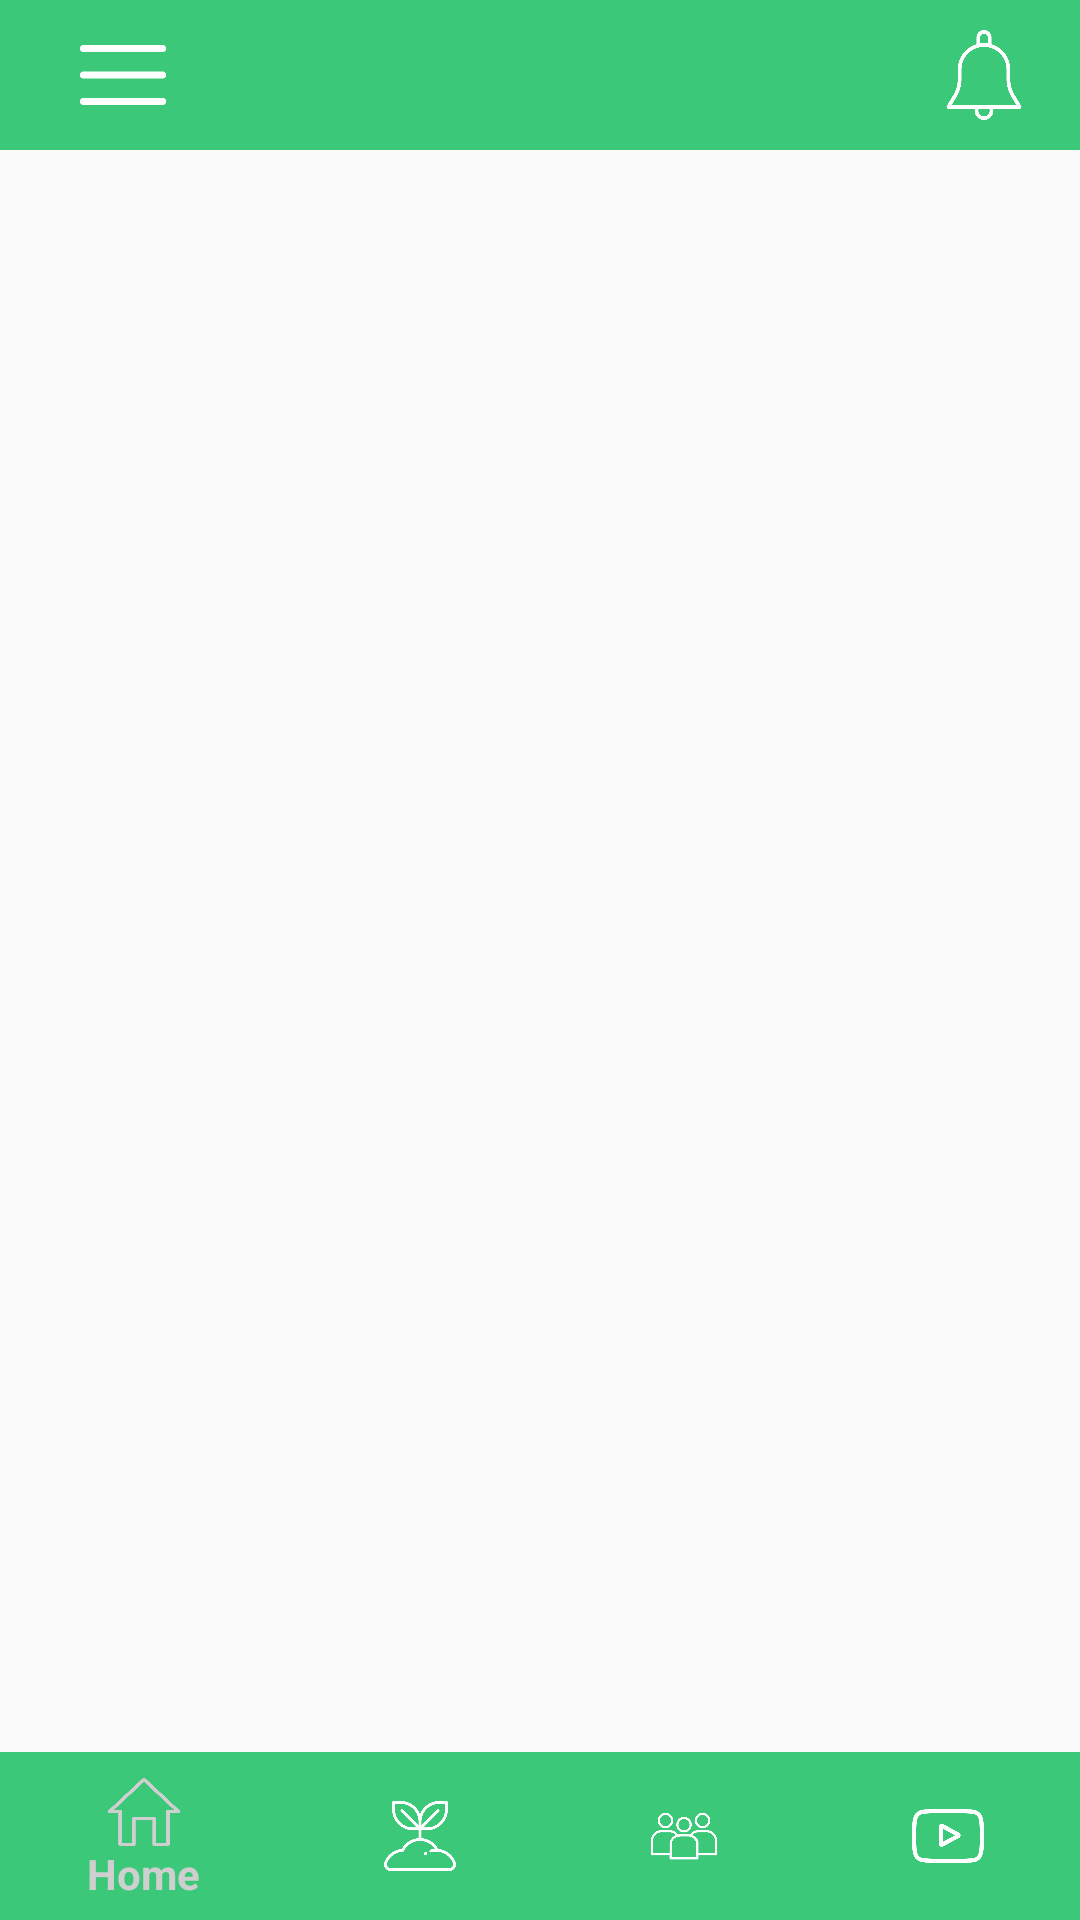

Screen size 1080 × 1920. Icon name, then its center in pixels as point (x, y):
menu: point (123, 75)
notification: point (984, 75)
